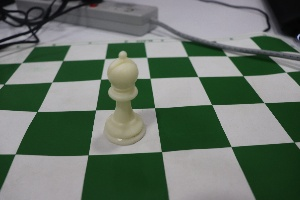white_bishop: (97, 44, 150, 146)
